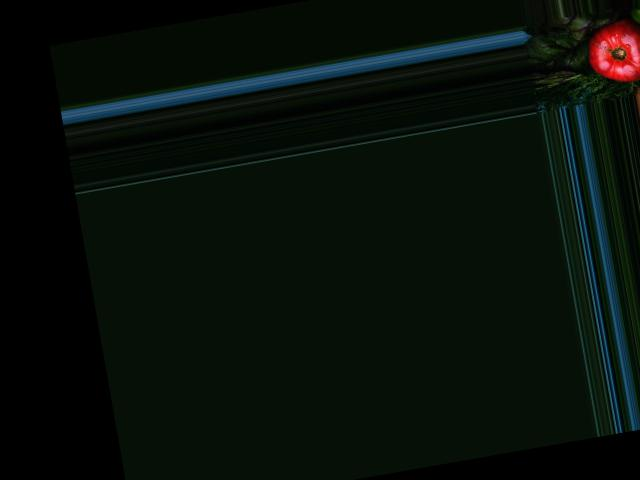tomato: (583, 12, 640, 87)
